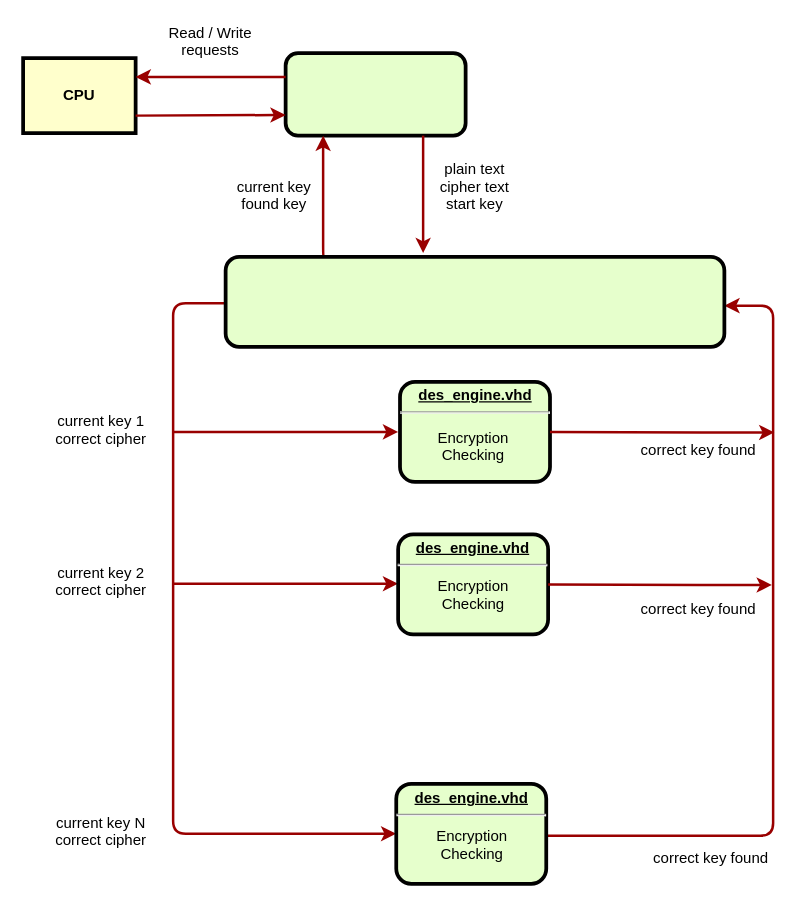
This 808x916 diagram has some shape labels left out. The shapes that lost their labels are listed below. From the top down, each one's centre as x and y in pixels, then its label:
the point at 375,94: des_cracker.vhd AXI - wrapper
the point at 474,301: des_sm.vhd Engine controller
